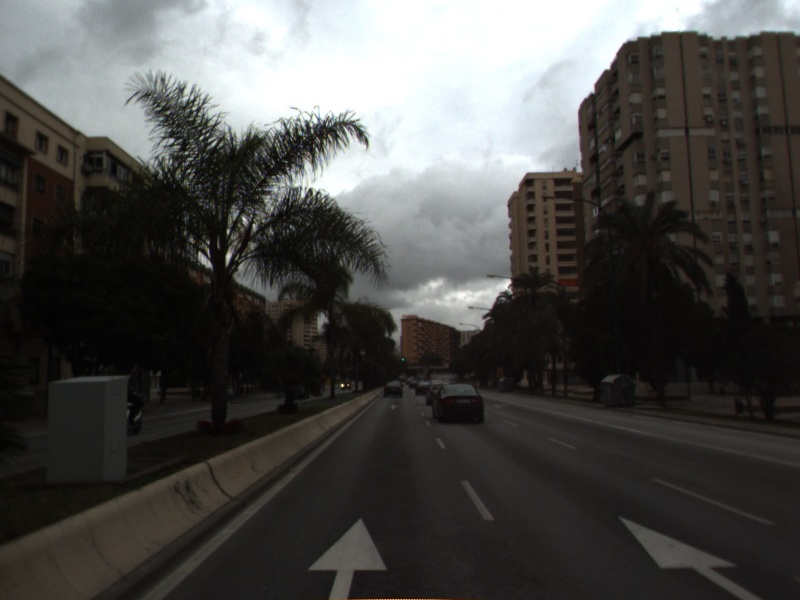RIGHT: (491, 402, 509, 411)
STRAIGHT: (614, 511, 770, 600), (303, 513, 390, 600), (387, 403, 400, 411)
